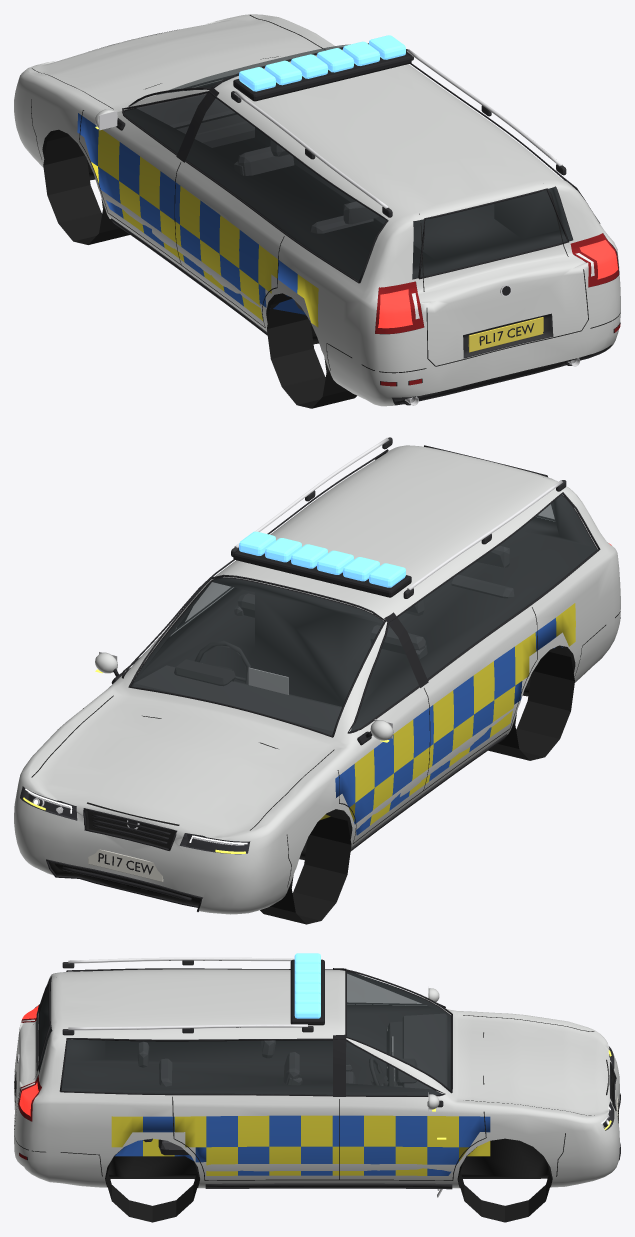
Rendered from civ_police.glb.
3 views of the same model, one above another, from view 1: azimuth 30°, elevation 25°; view 2: azimuth 150°, elevation 25°; view 3: azimuth 270°, elevation 25° (orthographic). The views are drawn at different scales.
Parts seen in each view (by area): view 1: civ_police; view 2: civ_police; view 3: civ_police.
Part boxes in pixels (bbox=[...]): civ_police: bbox=[14, 14, 620, 408]; civ_police: bbox=[14, 437, 620, 924]; civ_police: bbox=[14, 953, 620, 1222].
Size of the model in its own units: 2.05 by 1.62 by 4.61.
